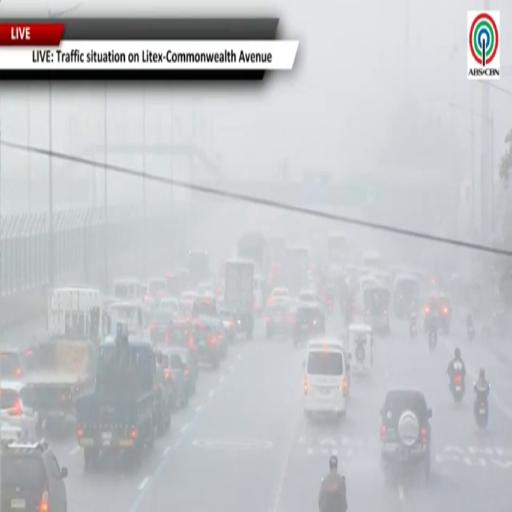car: (0, 440, 67, 511), (381, 390, 432, 483), (304, 339, 350, 417), (0, 381, 38, 441), (165, 319, 198, 388), (192, 296, 227, 359), (162, 347, 194, 407), (154, 350, 175, 435), (192, 318, 221, 369), (292, 303, 325, 344), (0, 348, 34, 379), (424, 294, 451, 333), (266, 300, 292, 339), (150, 309, 175, 343), (179, 291, 199, 317), (148, 278, 167, 303), (159, 297, 179, 314), (298, 290, 320, 303), (197, 281, 215, 295), (271, 287, 290, 298)
motorcycle: (451, 373, 465, 403), (475, 396, 488, 428), (409, 314, 417, 339), (429, 330, 437, 351), (409, 323, 417, 339), (467, 325, 475, 341)
truck: (77, 336, 163, 471), (23, 288, 104, 429), (223, 261, 254, 340), (106, 301, 149, 341), (237, 232, 269, 278), (285, 247, 309, 296), (267, 237, 286, 289), (327, 232, 351, 267), (189, 251, 210, 286)
